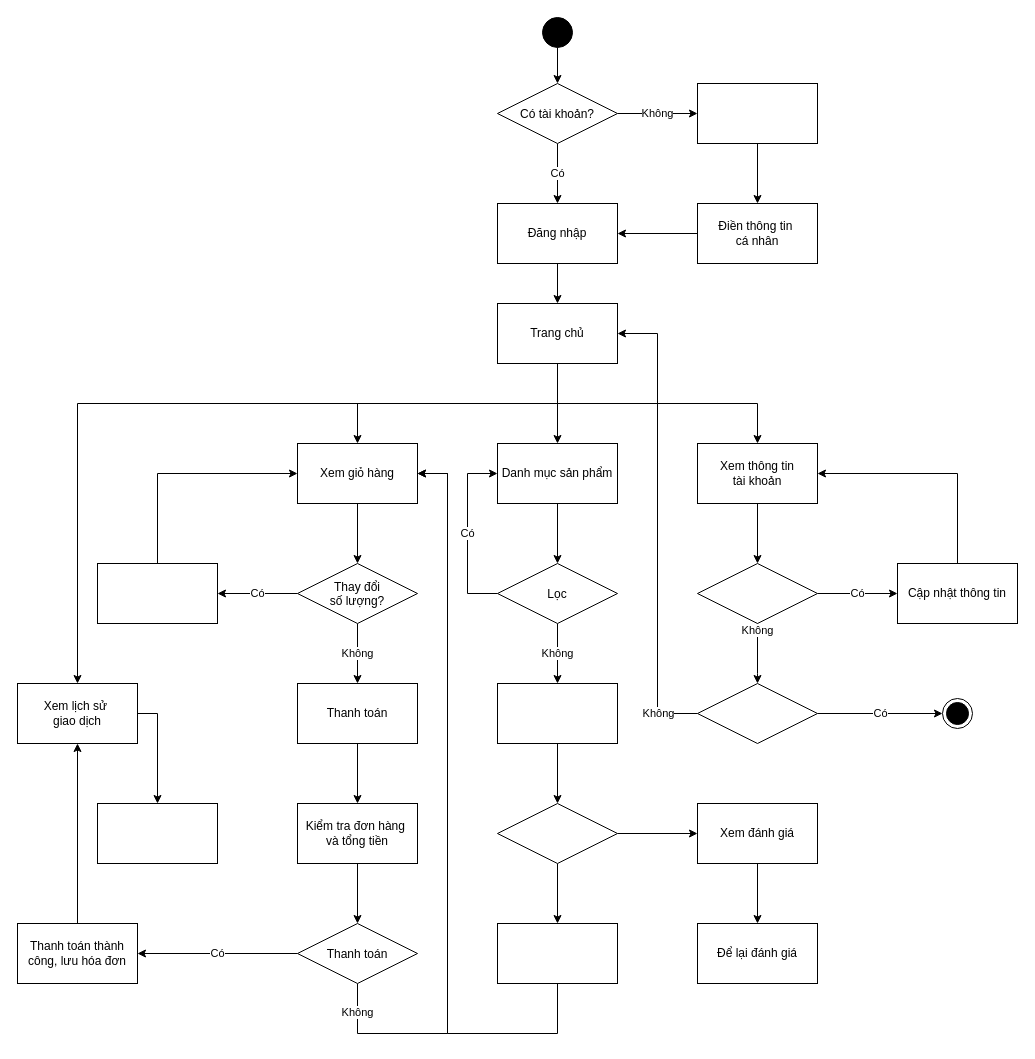
Some shapes in this 1035 by 1059 pixel diagram are drawn without their labels. The shapes that lost their labels are listed below. From the top down, each one's box as (x1, y1, x2, y2) in pixels, then its label:
(696, 82, 818, 144): Đăng ký
(96, 562, 218, 624): Cập nhật giỏ hàng
(696, 562, 818, 624): Thay đổi?
(496, 682, 618, 744): Xem chi tiết sản phâm
(696, 682, 818, 744): Đăng xuất?
(96, 802, 218, 864): Danh sách đơn hàng
(496, 802, 618, 864): Hành động?
(496, 922, 618, 984): Thêm vào giỏ hàng
